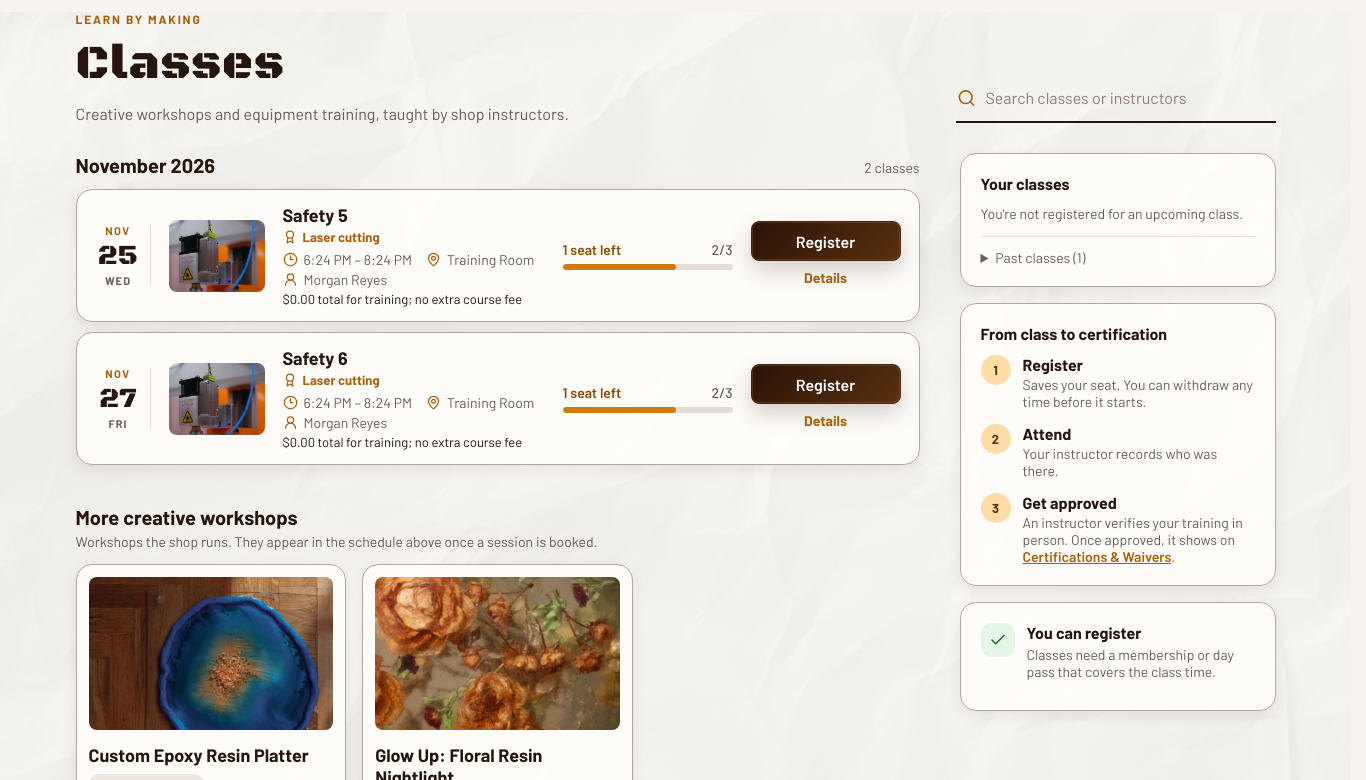
Scenario: member sees soonest classes first and registers with one click
The width and height of the screenshot is (1366, 780).
Expected: the heading "You can register" is shown, left=1026, top=623, right=1141, bottom=642
Click the button "Register" in the row of "Safety 5" at (826, 241), box left=750, top=221, right=900, bottom=261
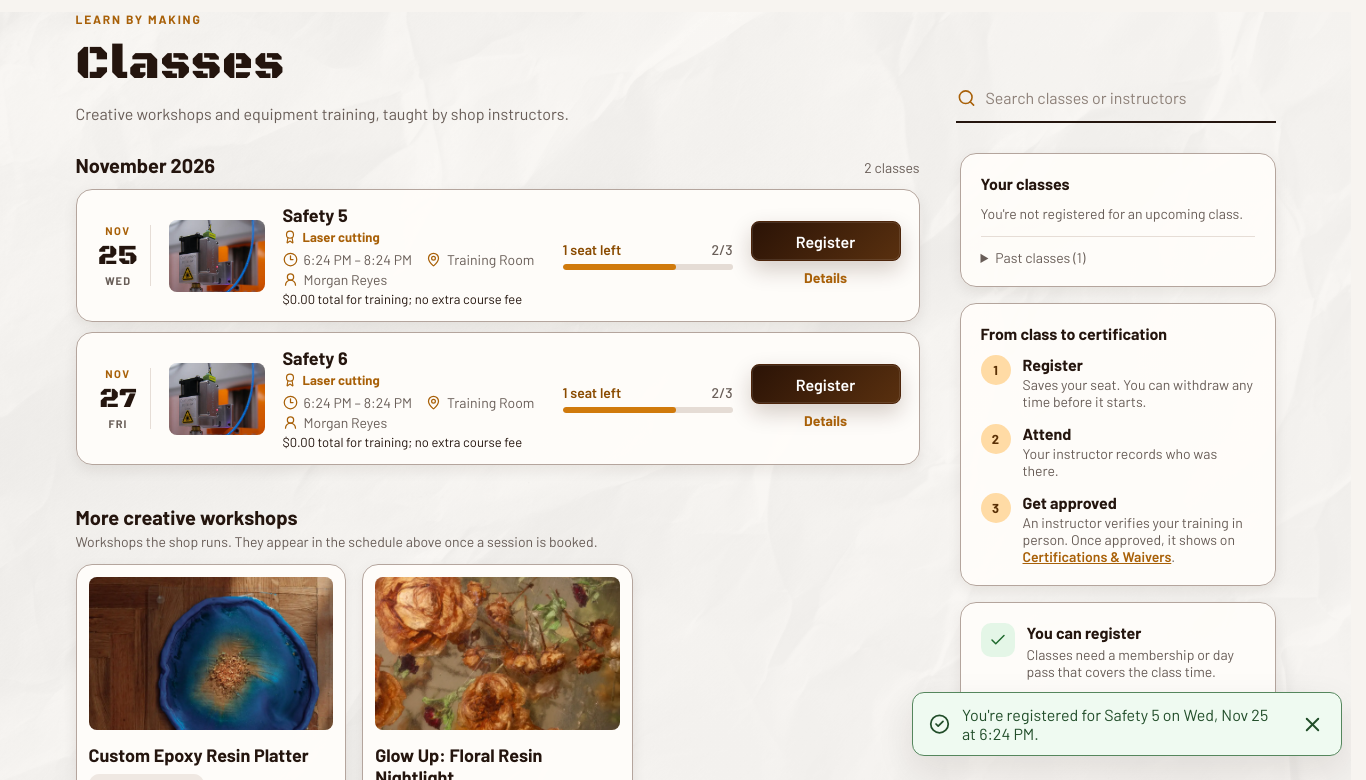
Now the text "You're registered for Safety 5 on Wed, Nov 25 at 6:24 PM." is shown, box left=962, top=705, right=1283, bottom=743
